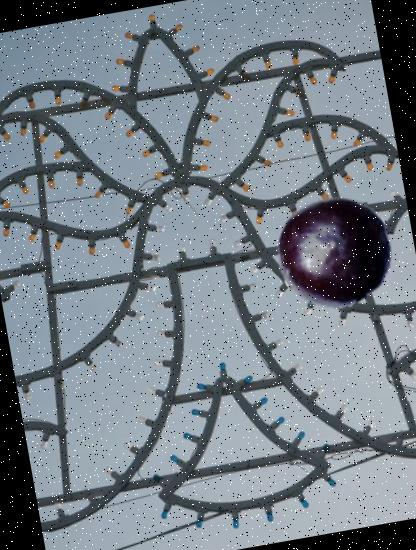Plum: (266, 183, 404, 320)
